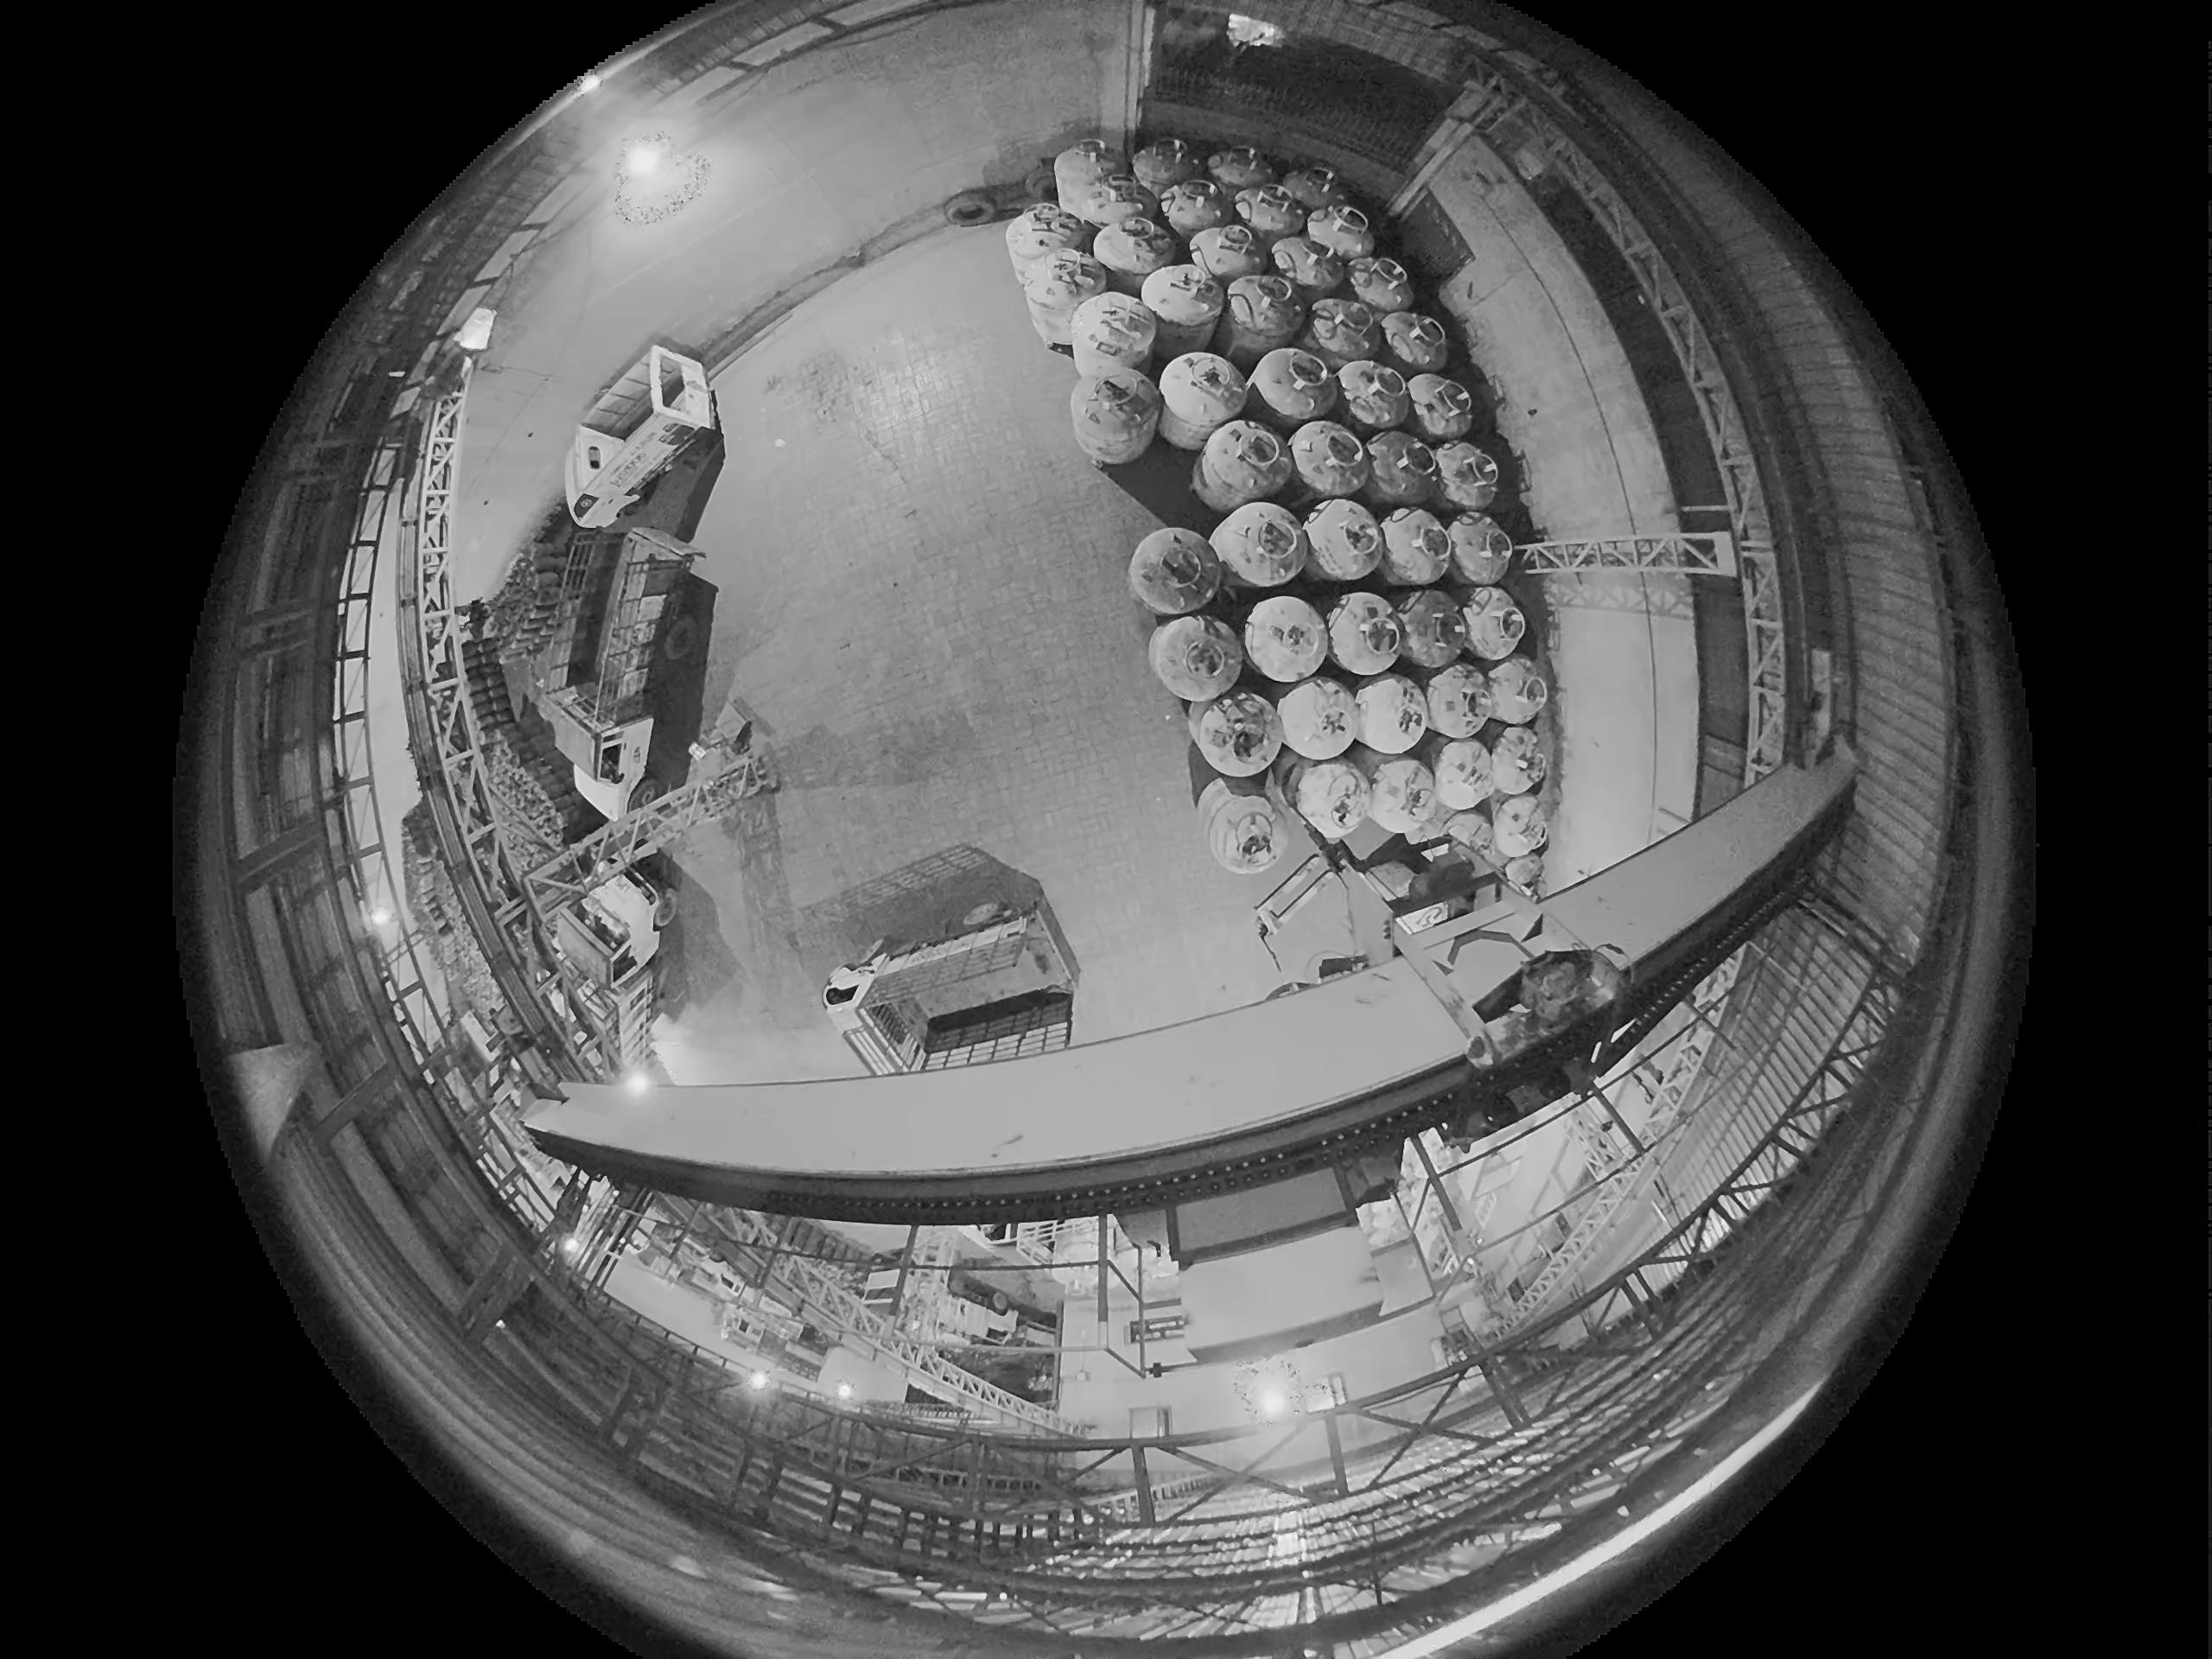cylinder: (1139, 511, 1237, 627), (1207, 502, 1303, 592), (1198, 784, 1291, 877), (1158, 355, 1249, 448), (1195, 418, 1289, 505), (1150, 613, 1244, 699), (1242, 594, 1331, 683), (1191, 690, 1282, 777), (1071, 373, 1153, 465), (1275, 674, 1362, 760), (1324, 591, 1411, 676), (1139, 261, 1226, 347), (1301, 497, 1386, 582), (1069, 291, 1155, 376), (1223, 274, 1306, 361), (1247, 345, 1336, 427), (1287, 420, 1372, 504), (1289, 756, 1372, 842), (1022, 261, 1104, 349), (1352, 671, 1432, 755), (1094, 211, 1179, 288), (1378, 504, 1456, 586), (1003, 202, 1089, 277), (1362, 429, 1439, 511), (1052, 138, 1129, 220), (1366, 756, 1442, 836), (1390, 589, 1465, 669), (1423, 662, 1494, 742), (1332, 357, 1409, 430), (1306, 298, 1385, 368), (1188, 223, 1270, 289), (1430, 439, 1501, 514), (1454, 587, 1526, 660), (1444, 509, 1514, 584), (1430, 735, 1498, 812), (1404, 371, 1475, 443), (1480, 657, 1552, 728), (1270, 234, 1346, 298), (1157, 176, 1235, 239), (1486, 723, 1550, 796), (1379, 310, 1451, 375), (1233, 185, 1306, 247), (1305, 202, 1376, 265), (1266, 753, 1324, 826), (1489, 793, 1550, 861), (1346, 254, 1414, 315), (1130, 138, 1198, 193), (1205, 145, 1277, 195), (1280, 162, 1346, 214), (1583, 946, 1634, 1012), (1451, 814, 1500, 871), (944, 186, 1001, 228), (1496, 850, 1547, 897), (1024, 160, 1061, 204)
truck: (547, 523, 756, 793), (826, 939, 1076, 1073), (564, 343, 723, 540), (549, 875, 693, 1079)
